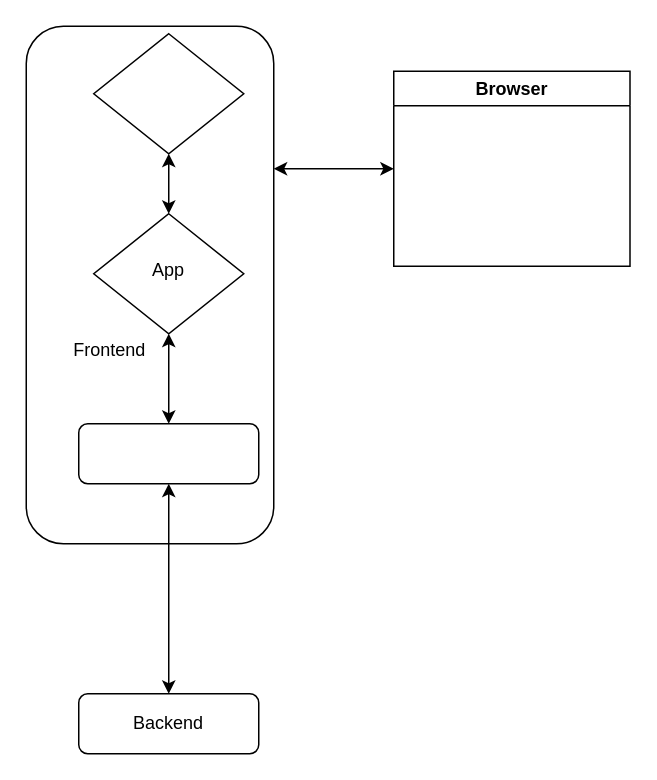
The diagram is 657 pixels wide and 780 high, and some of its shapes have lost their labels. Here are the shapes that lost their labels. From the top down, the centre of each, then its label:
pixel 168 93: main
pixel 168 453: LandingPage
